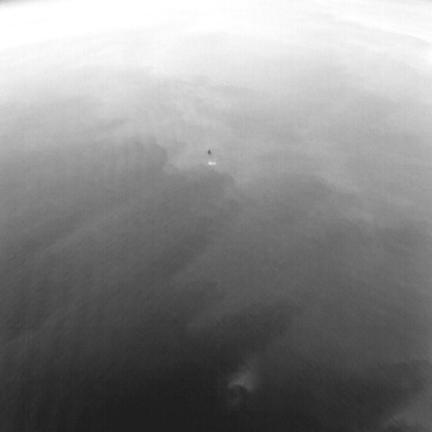flukeprints: (208, 160, 215, 165)
